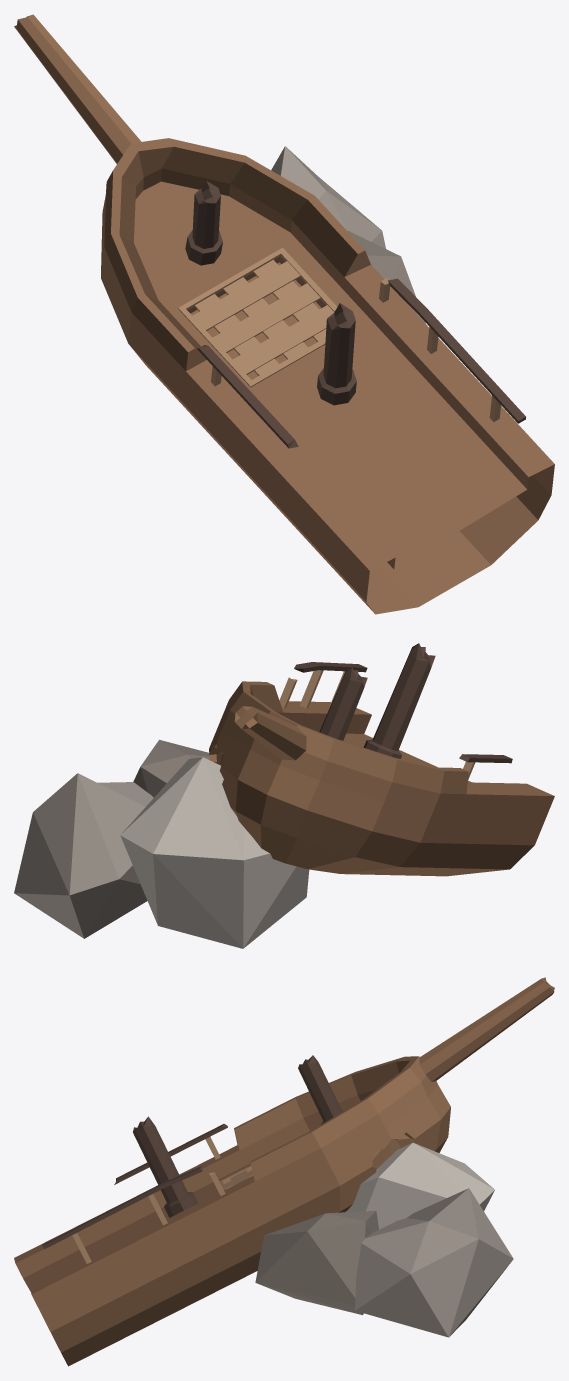
File: Wrack.fbx
The picture shows the model from 3 angles, top to bottom: view 1: azimuth 30°, elevation 25°; view 2: azimuth 150°, elevation 25°; view 3: azimuth 270°, elevation 25°; orthographic projection. The views are drawn at different scales.
Visible parts, largest first — view 1: Wrack; view 2: Wrack; view 3: Wrack.
Boxes of the visible parts, bbox=[...] form: Wrack: bbox=[14, 14, 554, 614]; Wrack: bbox=[14, 643, 554, 948]; Wrack: bbox=[14, 977, 554, 1366].
Size of the model in its own units: 793 by 929 by 1368.
